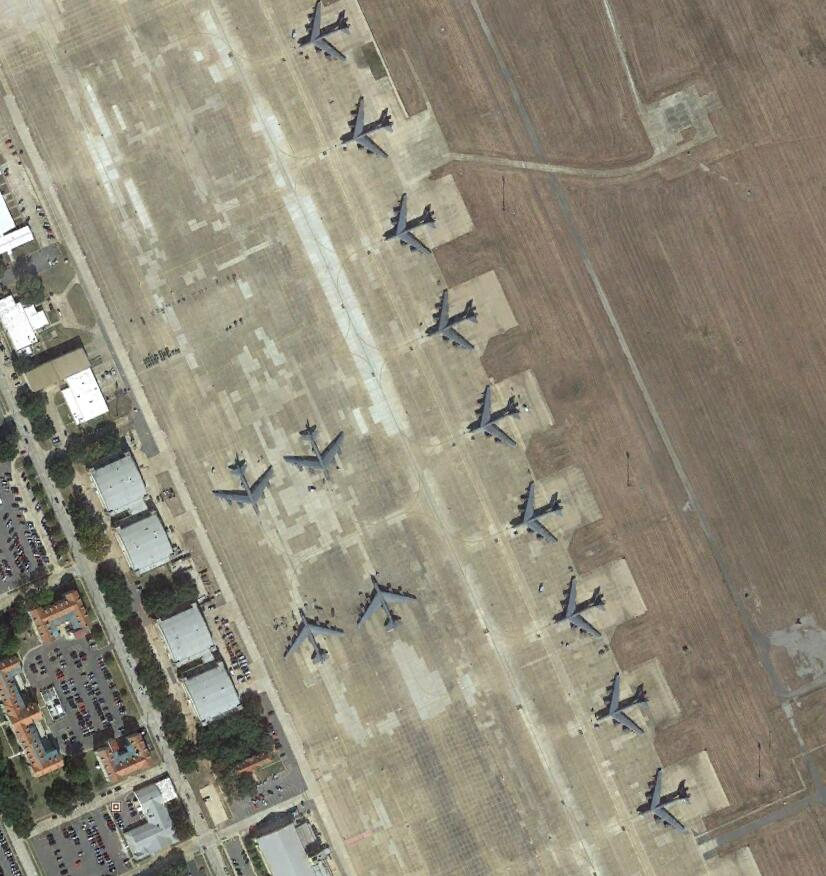A8: (377, 190, 444, 262), (279, 604, 347, 673), (335, 93, 399, 166), (422, 285, 485, 358), (289, 1, 356, 69), (355, 570, 421, 639), (507, 479, 569, 550), (549, 574, 611, 642), (285, 421, 351, 484), (463, 384, 525, 451), (636, 764, 694, 834), (213, 457, 278, 517), (597, 669, 651, 741)
